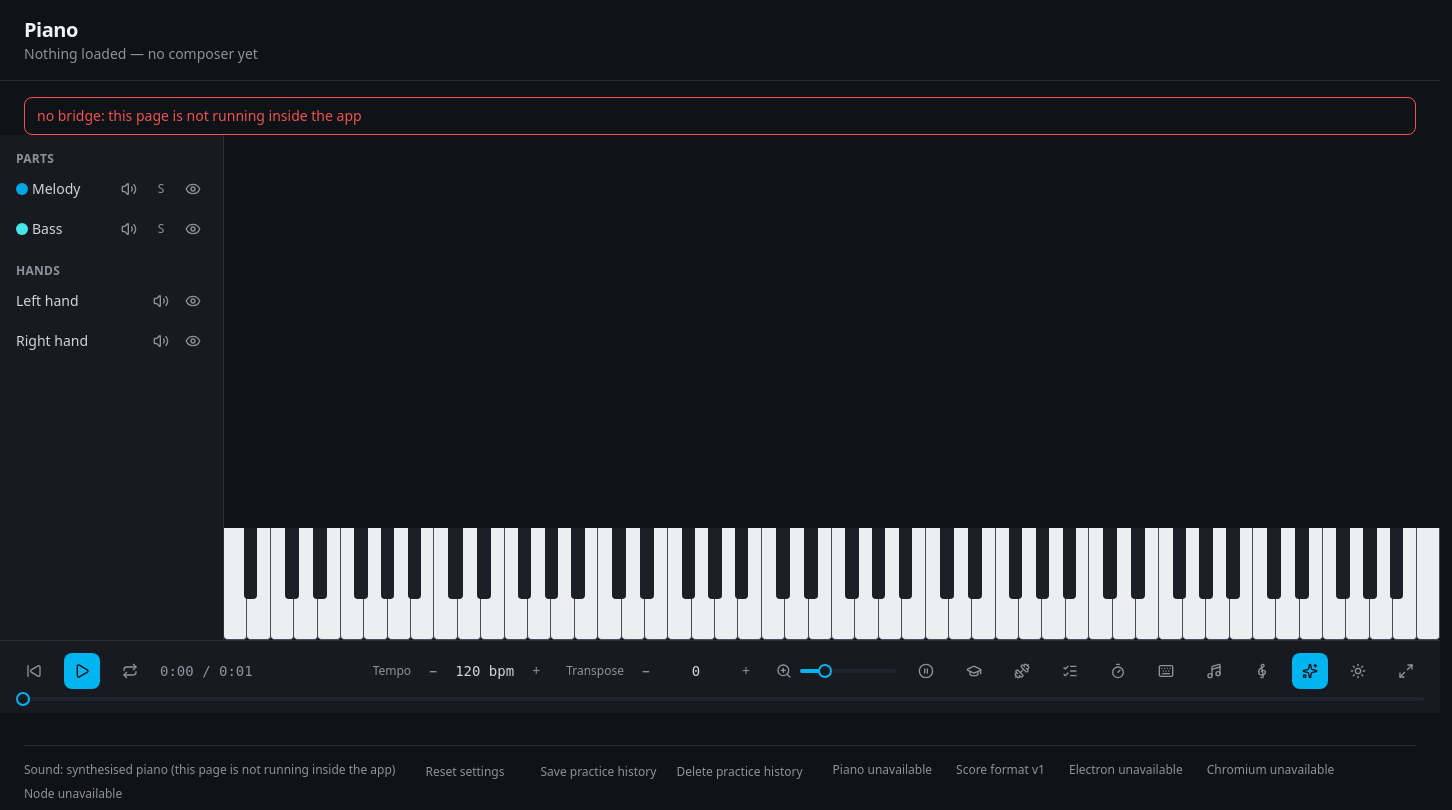
the app › swaps the centre of the window between the roll and the stave
Expected: the picture named "Falling notes" is shown, [224,135,1440,528]
What coordinates should you click on to do the following:
click the button named "Show the sheet music"
I would click on:
 (1262, 671)
Its box is [1244,653,1280,689].
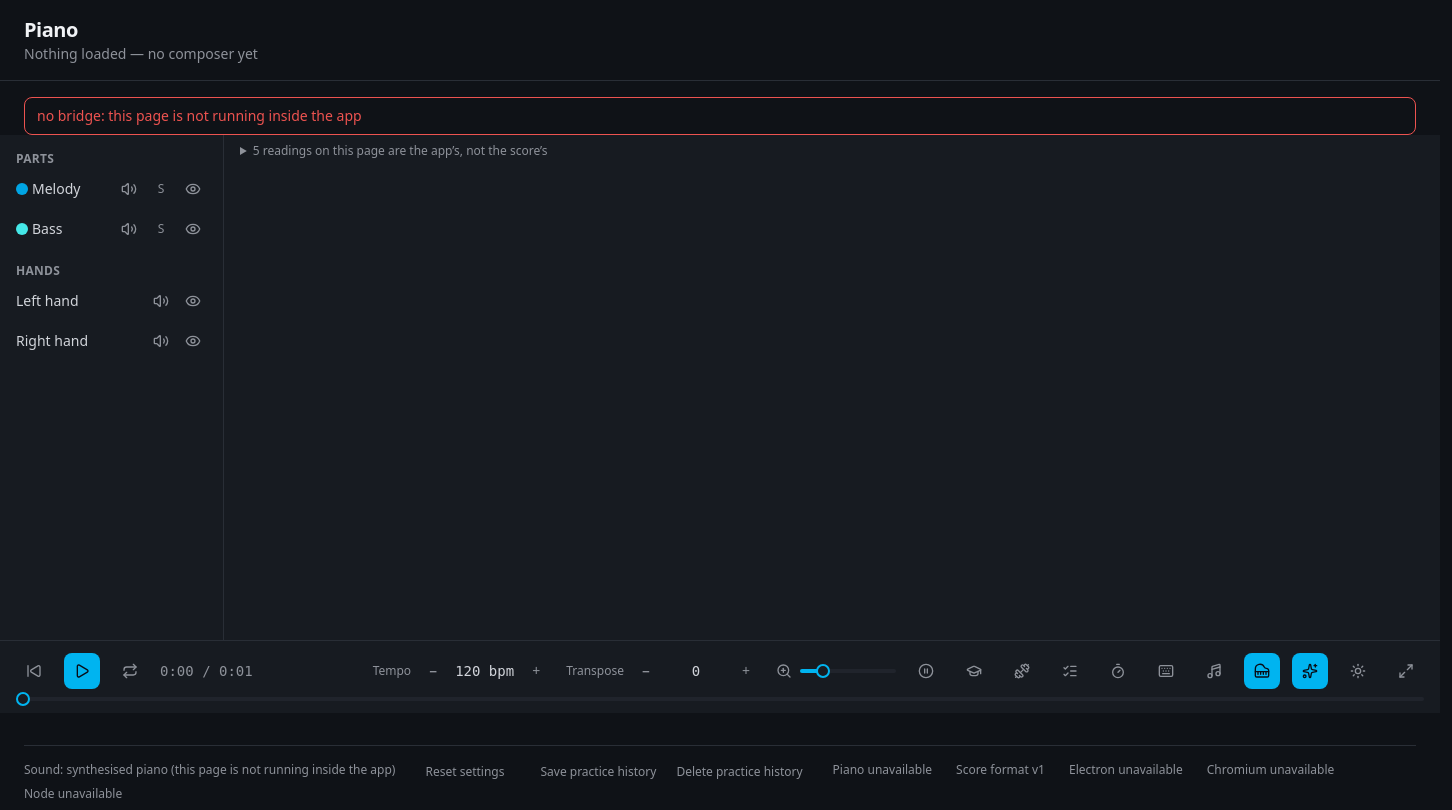
Expected: the element labelled "Parts" is shown, [0,135,224,640]
Result: the element named "Sheet music" is shown at [224,135,1440,640]
What coordinates should you click on to do the following:
click the button named "Show the falling notes"
I would click on:
 (1262, 671)
Its box is [1244,653,1280,689].
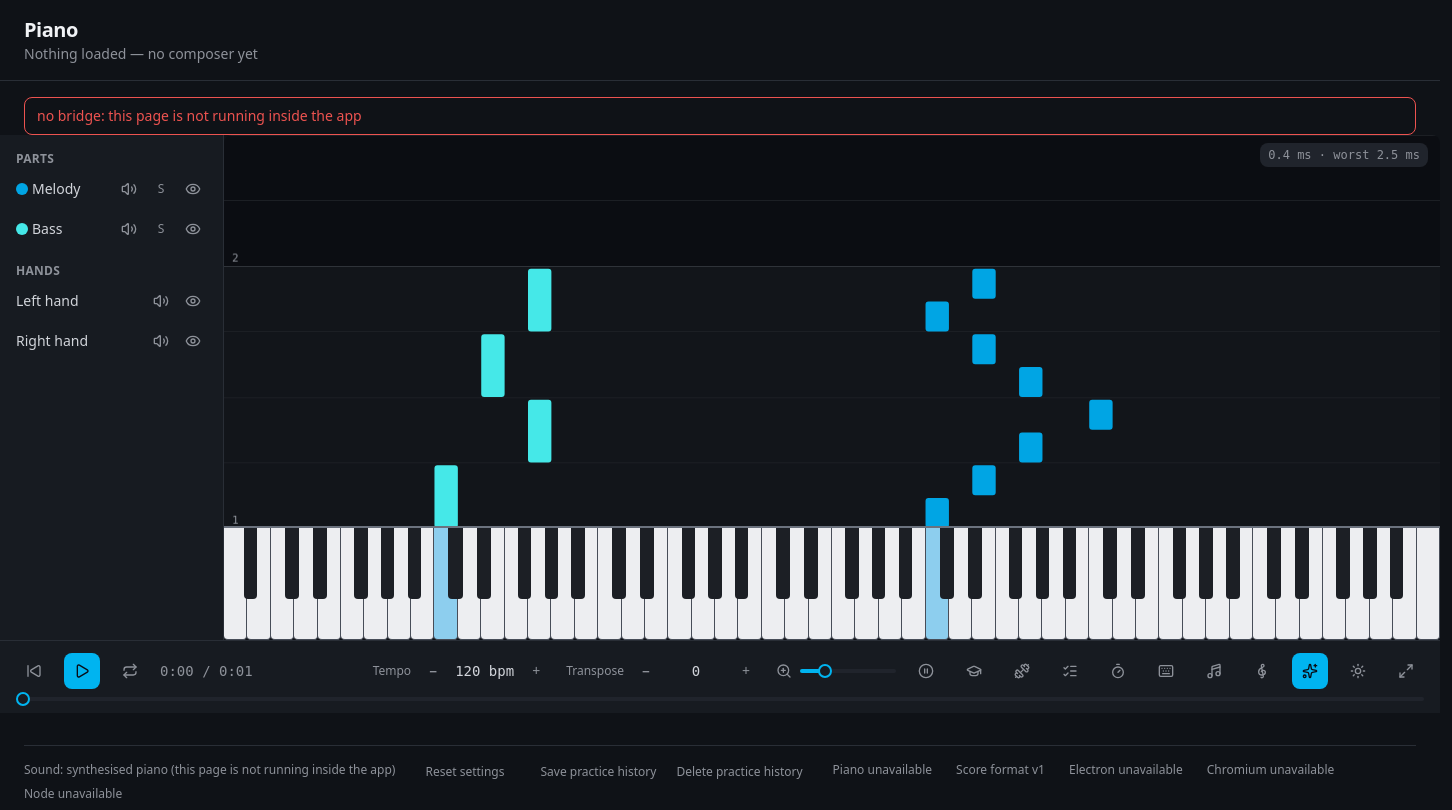
Result: the picture named "Falling notes" is shown at [224,135,1440,528]
